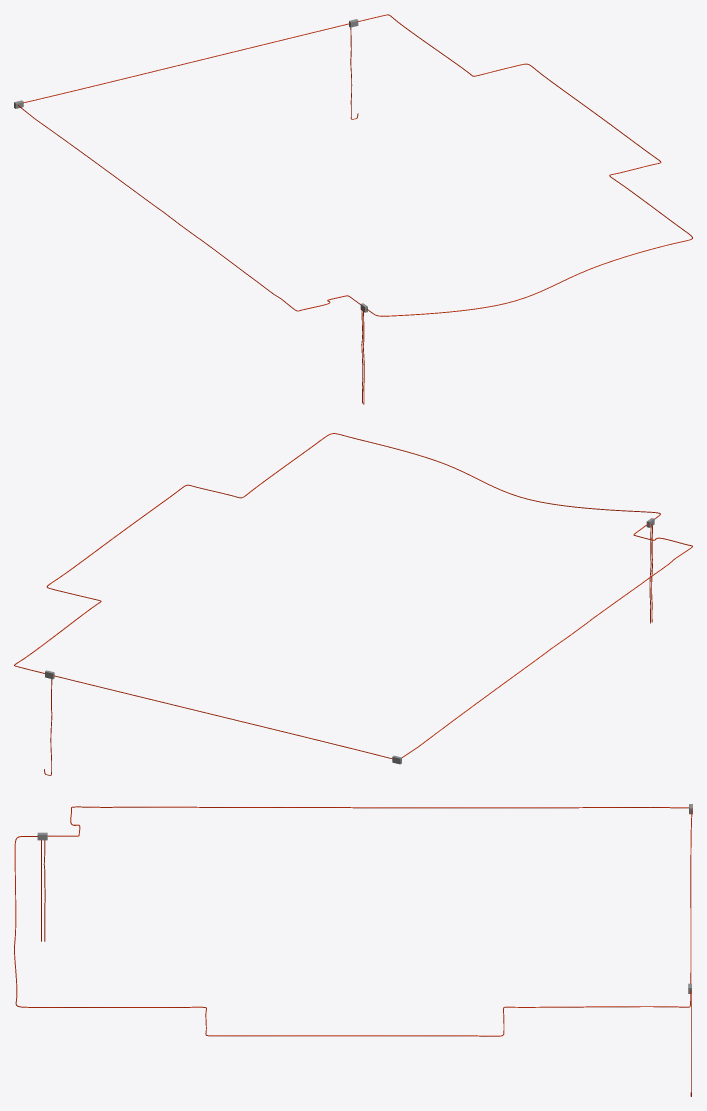
Rendered from cords.fbx.
3 renders of one model, top to bottom at view 1: azimuth 30°, elevation 25°; view 2: azimuth 150°, elevation 25°; view 3: azimuth 270°, elevation 25°, orthographic. The views are drawn at different scales.
Visible parts, largest first — view 1: cord_mat2; view 2: cord_mat2; view 3: cord_mat2.
Part boxes in pixels (x1,y1,x2,y2): cord_mat2: [18, 14, 692, 316]; cord_mat2: [14, 433, 692, 758]; cord_mat2: [14, 806, 692, 1036].
Bounding box in the file's own units: 802 × 178 × 1002.
